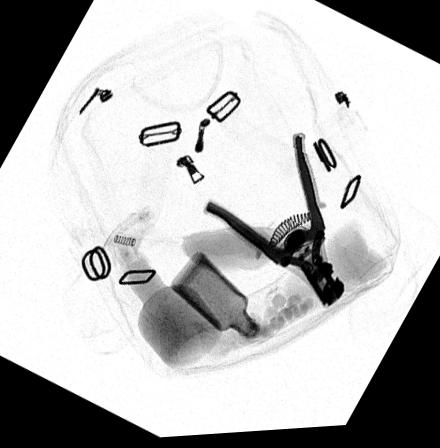Pliers: (203, 137, 344, 311)
